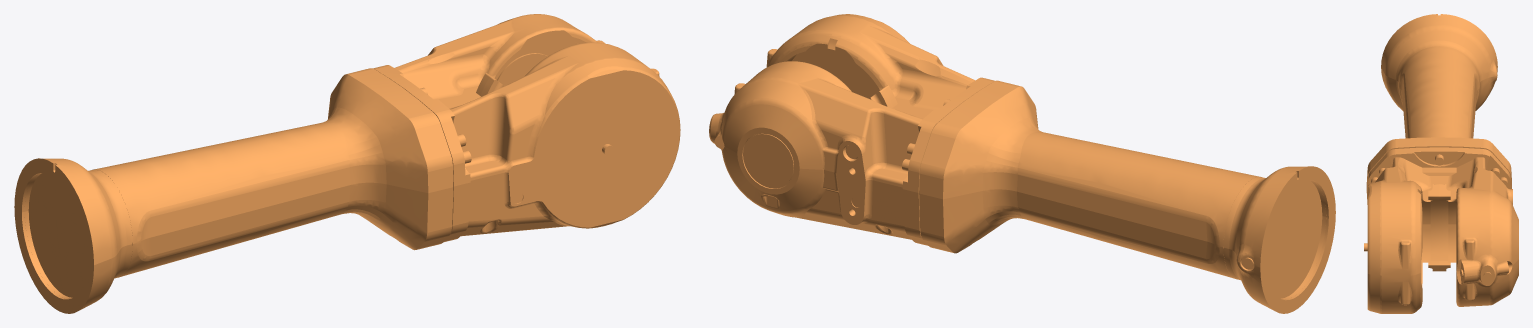
3 renders of one model, left to right at view 1: azimuth 30°, elevation 25°; view 2: azimuth 150°, elevation 25°; view 3: azimuth 270°, elevation 25°, orthographic. The views are drawn at different scales.
Visible parts, largest first — view 1: mesh_0; view 2: mesh_0; view 3: mesh_0.
Part boxes in pixels (<box>): mesh_0: <box>14,14,680,313</box>; mesh_0: <box>709,14,1335,313</box>; mesh_0: <box>1364,14,1518,313</box>.
Bounding box in the file's own units: 0.7307 × 0.1959 × 0.228.
